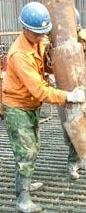boots: (15, 201, 42, 213), (1, 0, 1, 1)
gloves: (65, 89, 86, 104), (0, 40, 9, 52)
hard-hat: (19, 1, 53, 34)
ppe-suit: (0, 27, 27, 210)
